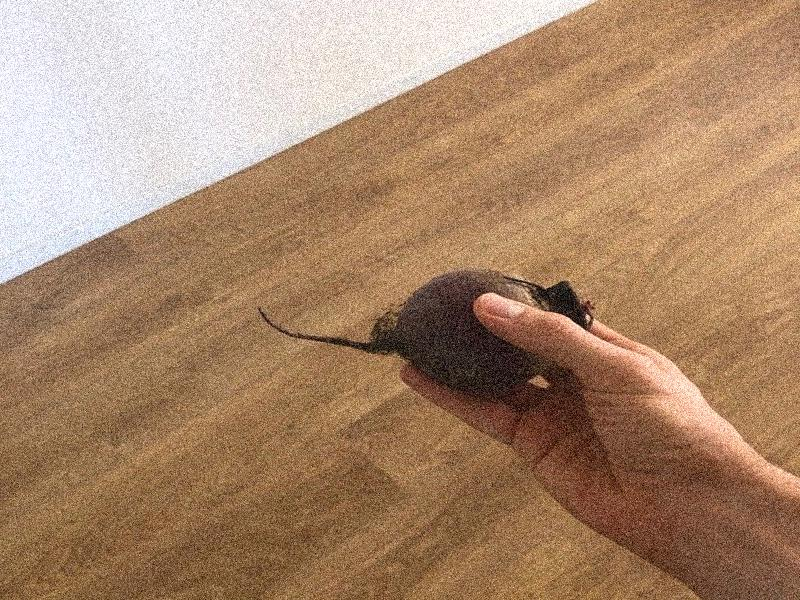Beet: (256, 270, 593, 390)
